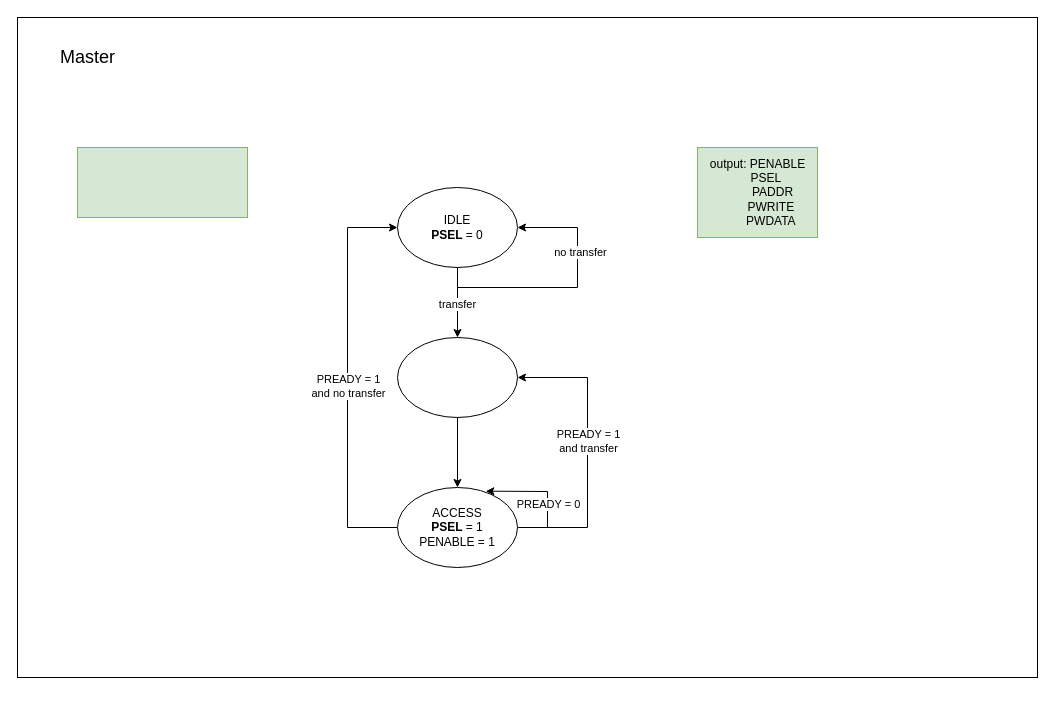
Some shapes in this 1055 by 705 pixel diagram are drawn without their labels. Here are the shapes that lost their labels. From the top down, the centre of each, then its label:
At (x=162, y=182): "input: - PREADY - PRDATA - transfer - input from cpu".
At (x=457, y=377): "SETUP PSEL = 1 PENABLE = 0".
